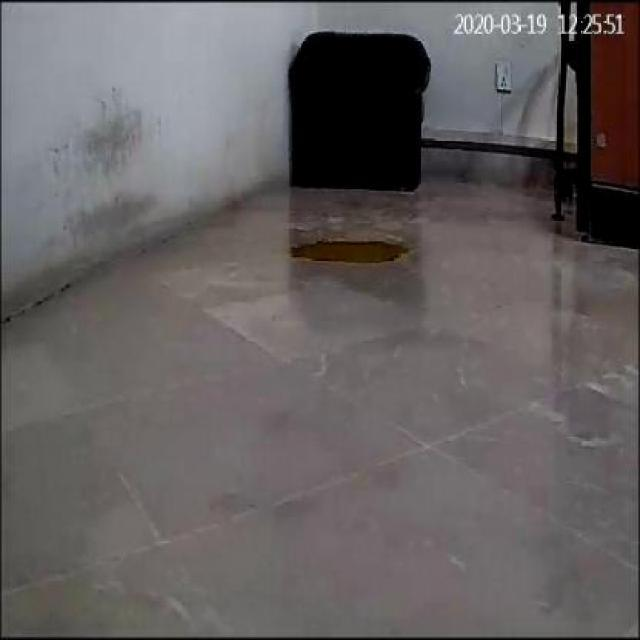spill: (292, 234, 406, 260)
